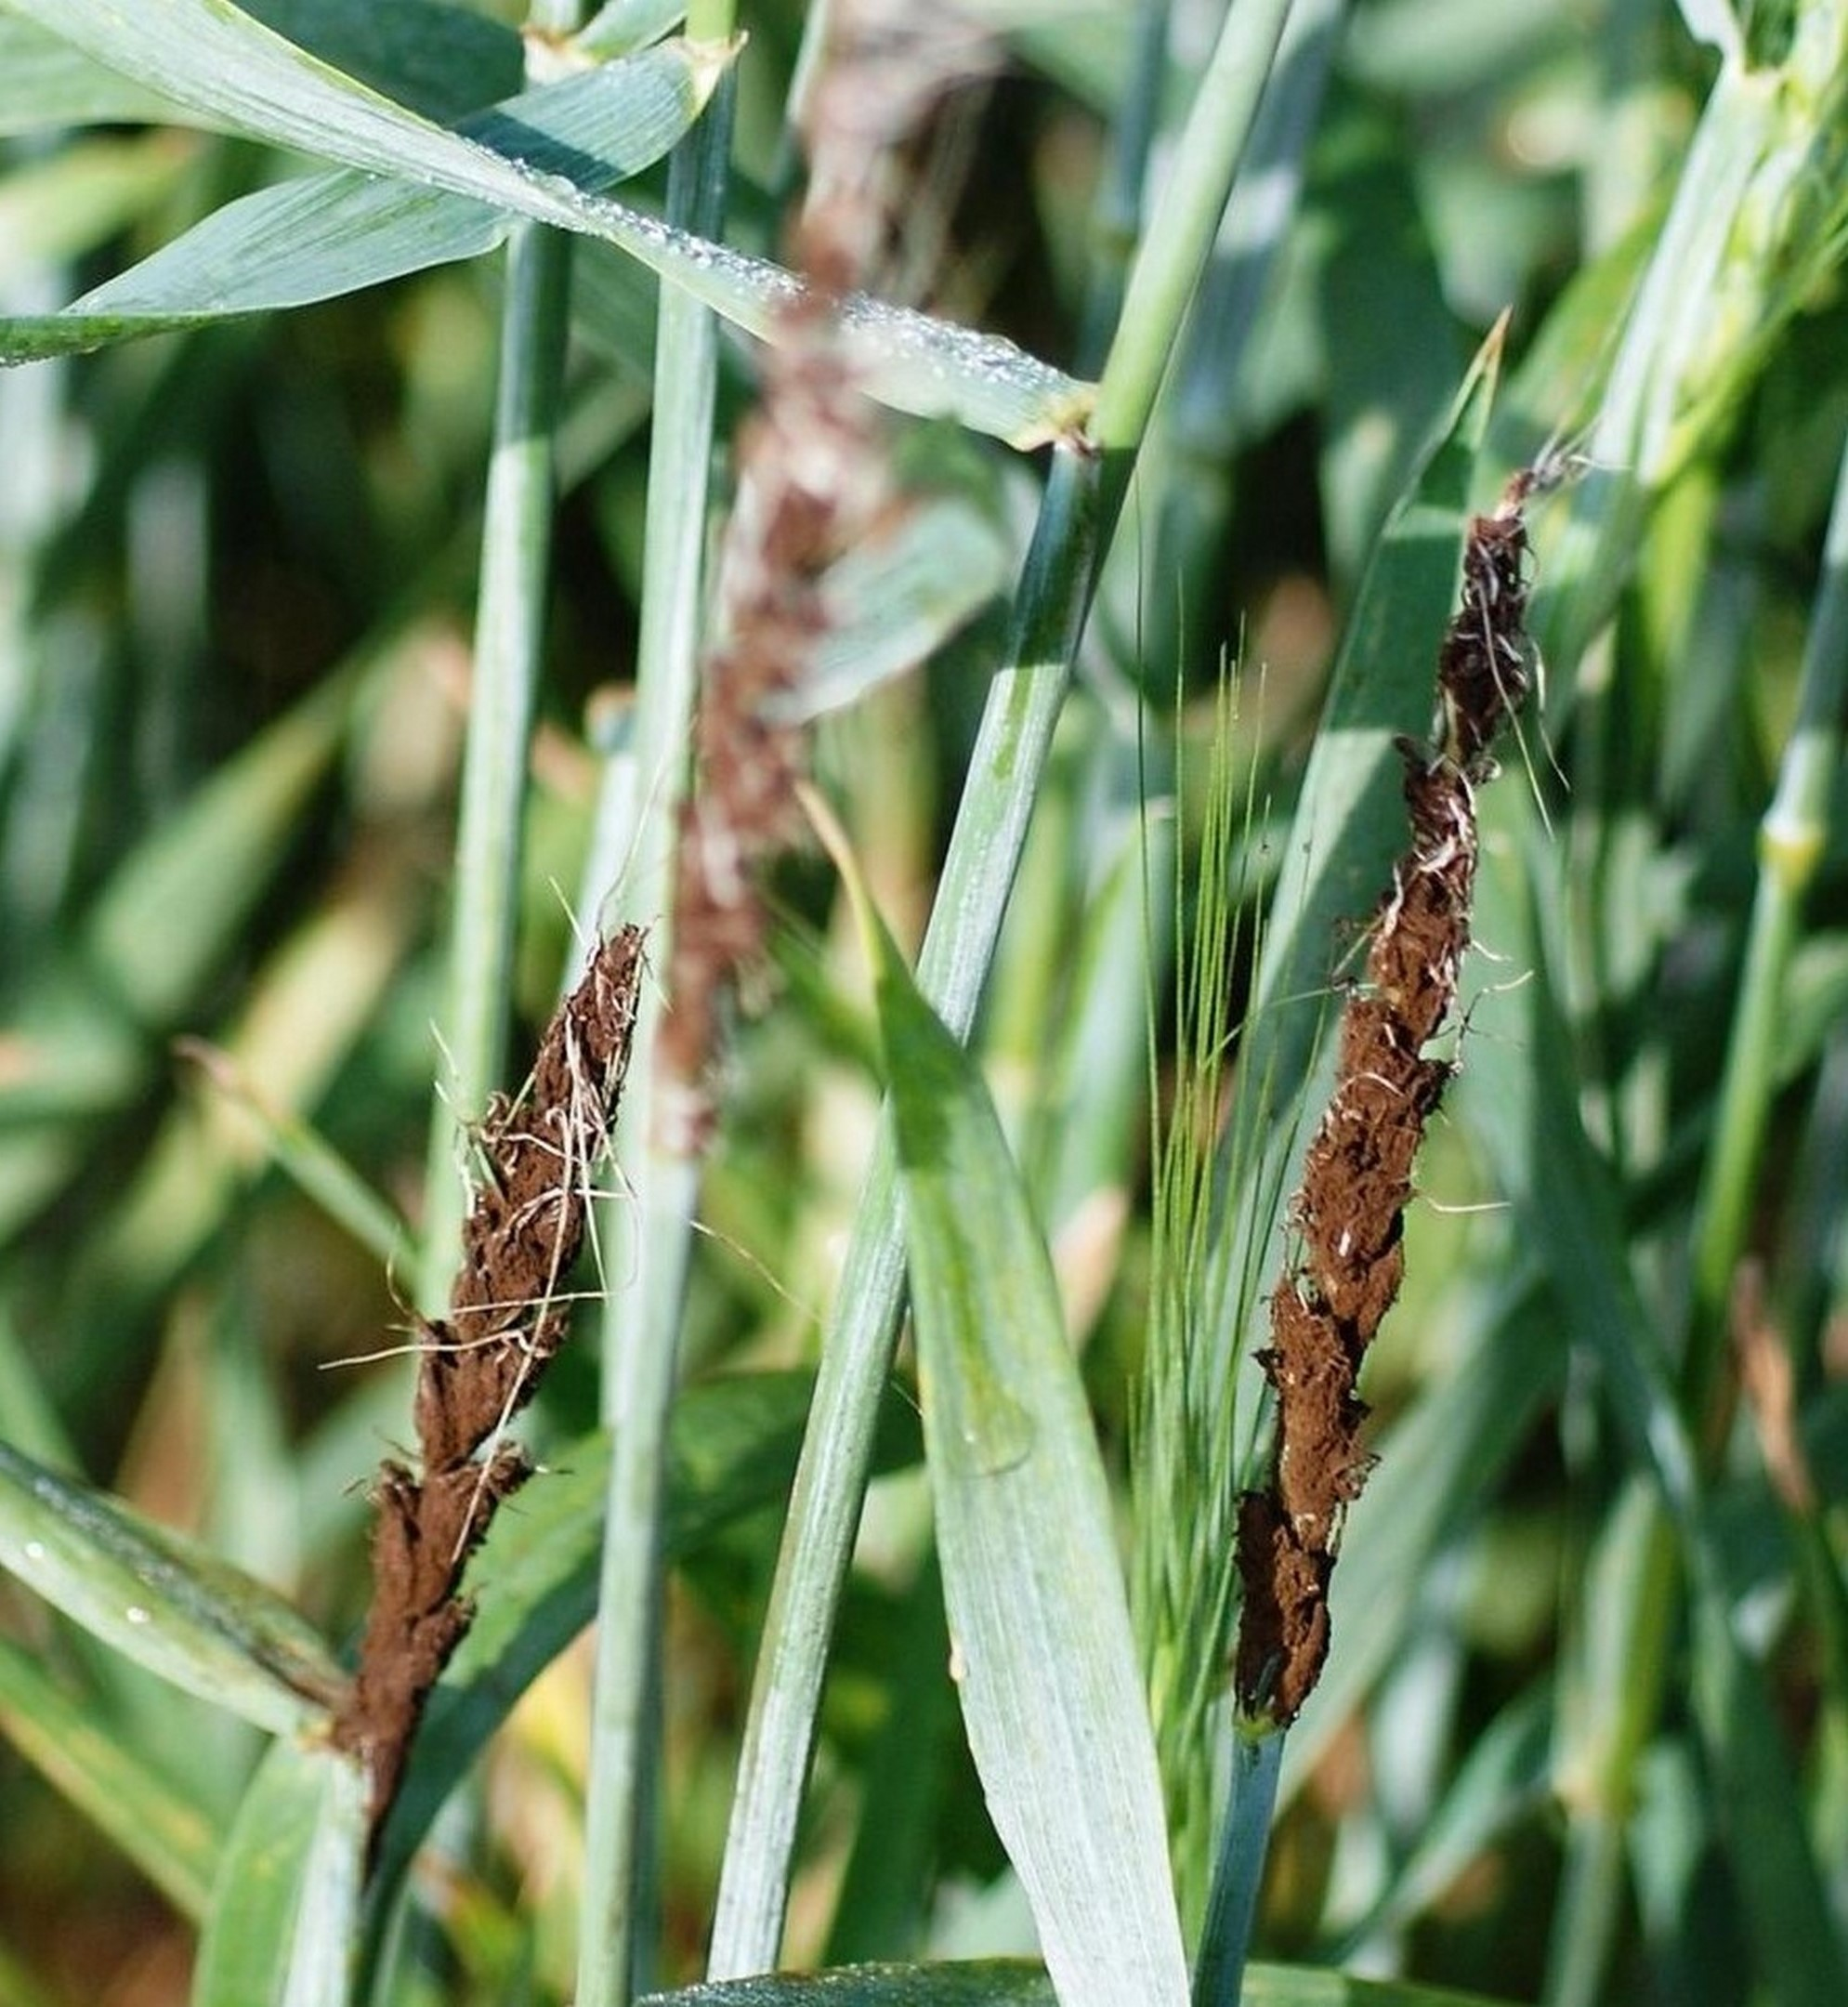Wheat Loose Smut: (1201, 472, 1596, 1719), (299, 969, 654, 1757)
